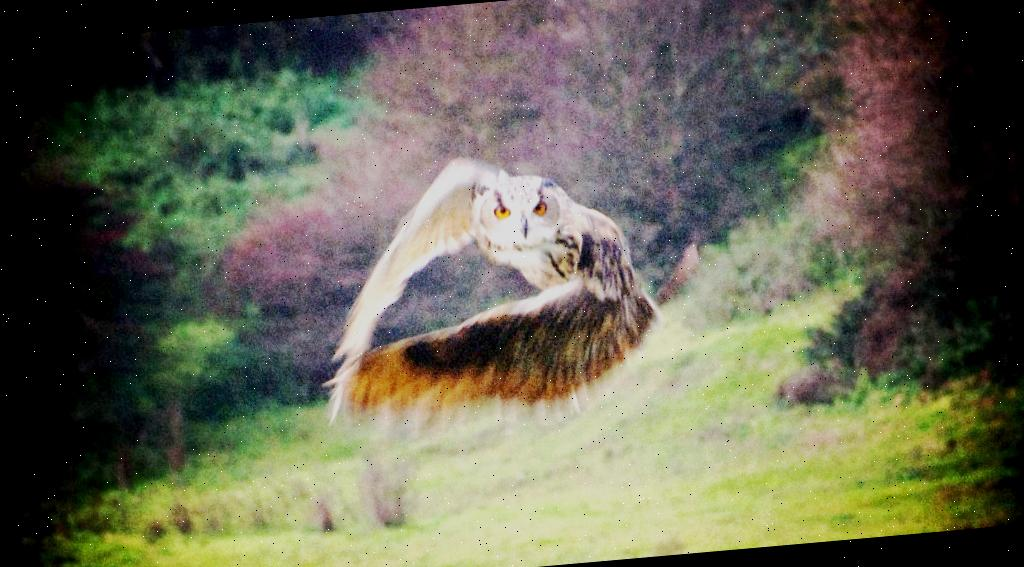Owl: (303, 144, 674, 442)
